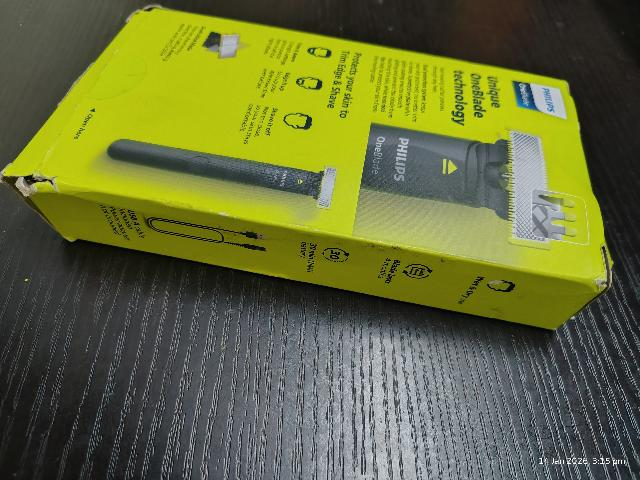phillips oneblade: (25, 3, 617, 331)
